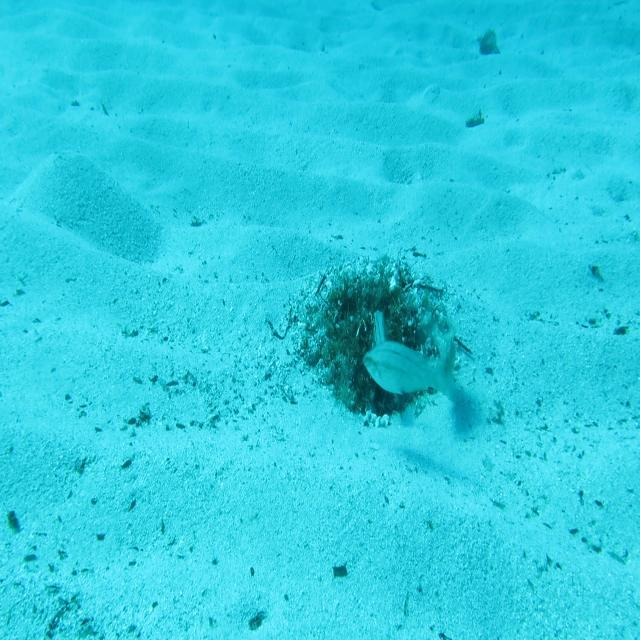BEND: (403, 300, 459, 362)
core_nest: (356, 282, 405, 319)
female: (361, 339, 458, 406), (373, 307, 387, 348)
nest: (288, 248, 454, 433)
vegetation: (478, 30, 502, 58), (462, 105, 487, 130), (246, 607, 268, 633), (330, 562, 350, 580)
